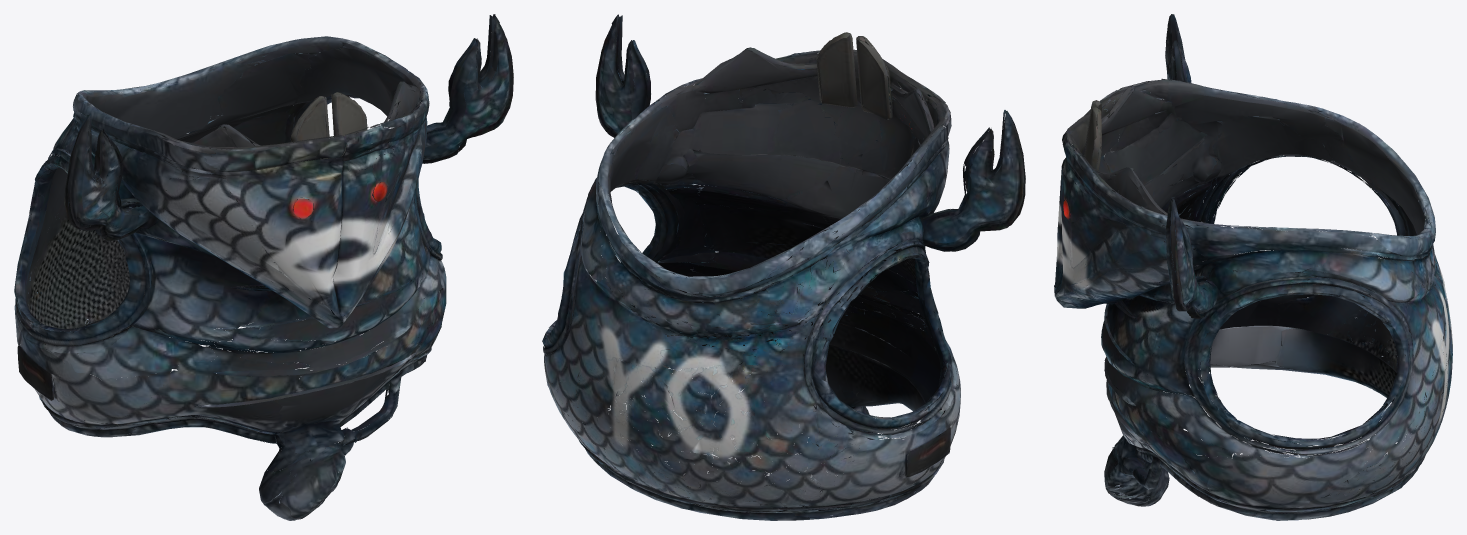
File: Scorpion.glb
3 views of the same model, side by side, from view 1: azimuth 30°, elevation 25°; view 2: azimuth 150°, elevation 25°; view 3: azimuth 270°, elevation 25° (orthographic). The views are drawn at different scales.
Parts seen in each view (by area): view 1: node_0; view 2: node_0; view 3: node_0.
Part boxes in pixels (x1,y1,x2,y2): node_0: (14, 14, 513, 520); node_0: (542, 14, 1025, 520); node_0: (1054, 14, 1452, 520).
Size of the model in its own units: 0.891 by 0.828 by 0.7341.
1 material, 1 textured.
